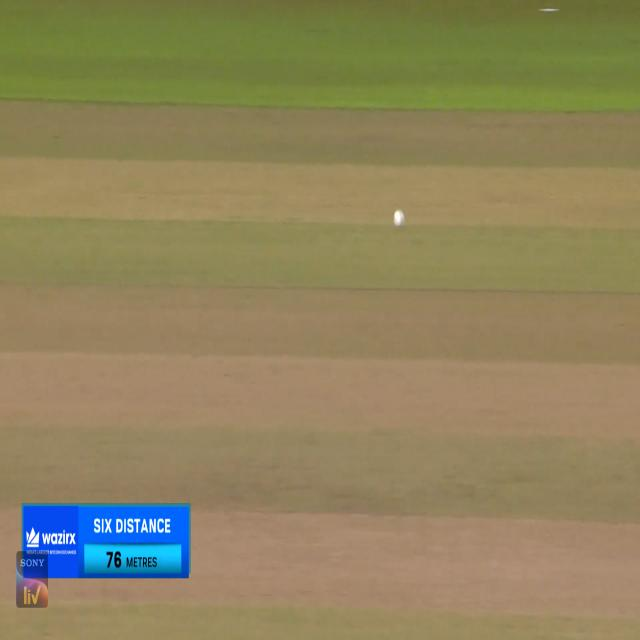ball: (392, 207, 407, 233)
